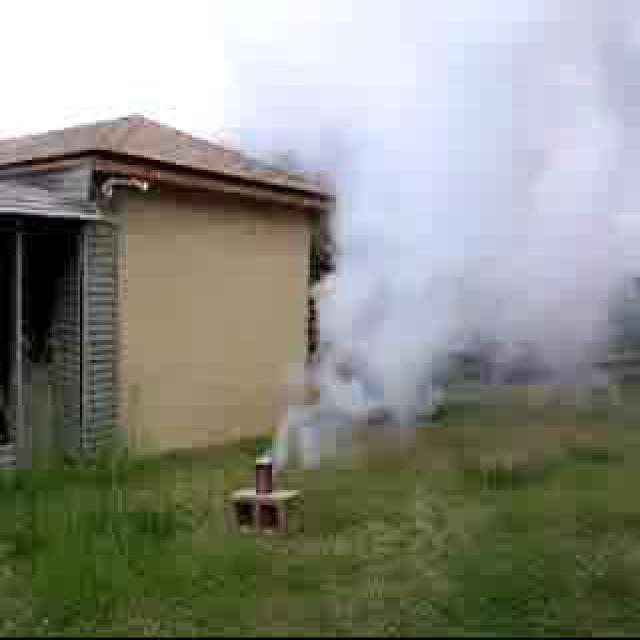Smoke: (314, 82, 620, 386)
